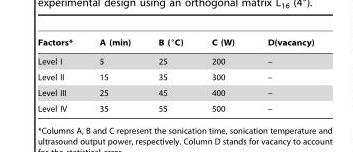table: (37, 36, 313, 112)
table column: (250, 36, 313, 112), (85, 36, 144, 112), (196, 36, 250, 112), (144, 36, 196, 112), (37, 36, 85, 112)
table column header: (37, 36, 313, 52)
table row: (37, 52, 313, 69), (37, 36, 313, 52), (37, 84, 313, 100), (37, 69, 313, 84), (37, 100, 313, 112)
